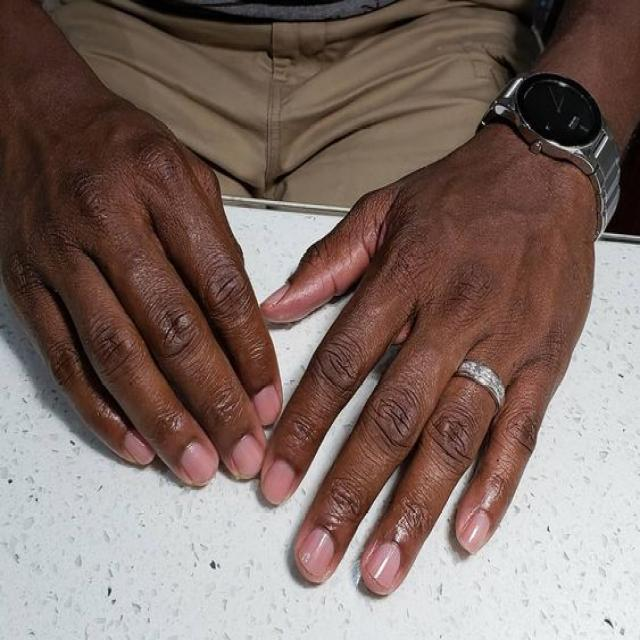Fingernail: (299, 529, 334, 576), (263, 459, 297, 505), (181, 442, 218, 484), (366, 543, 400, 588), (232, 435, 264, 477), (459, 512, 491, 553), (125, 431, 155, 465), (255, 385, 281, 424)
